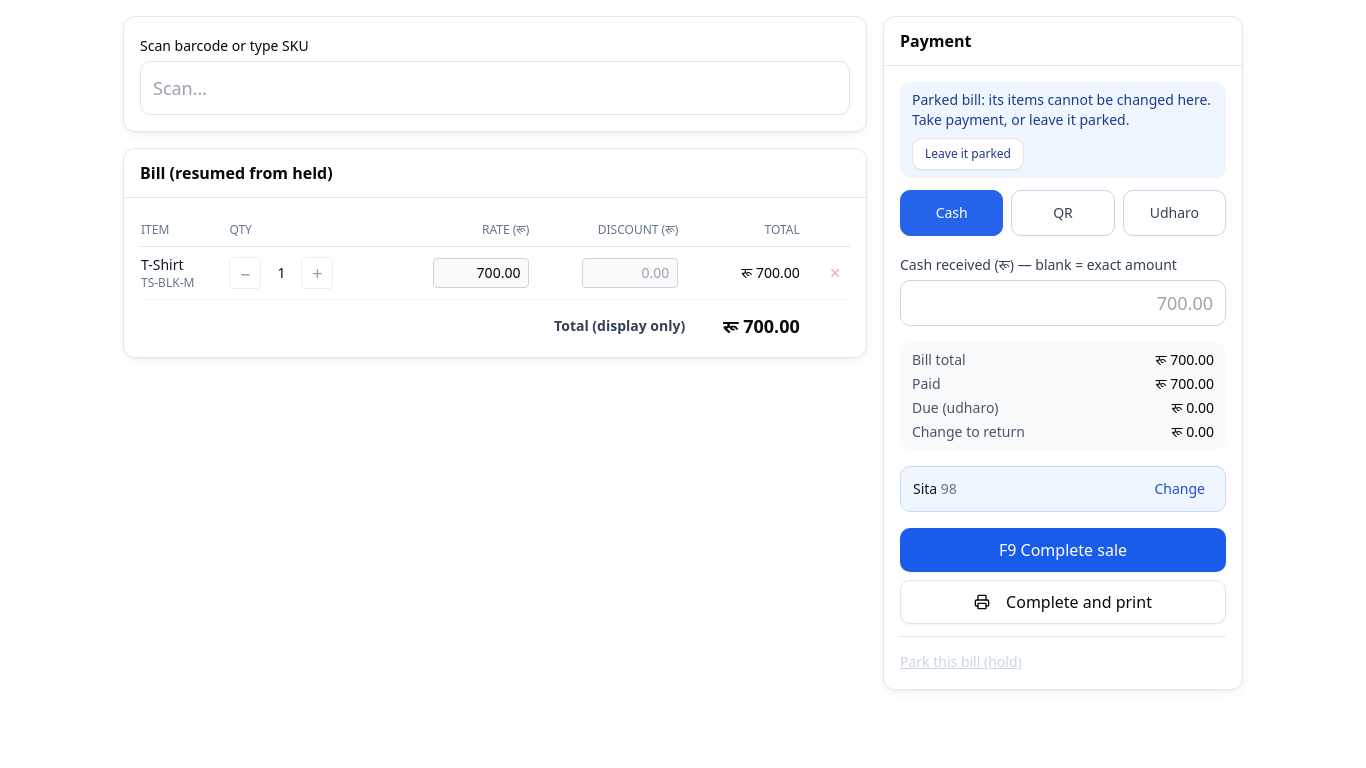
Test: BillingPage counter payment › with a held bill open › sends the customer picked at payment
Type "500" into the field labelled "Cash received (रू) — blank = exact amount". click: (1063, 303)
box: top-left (900, 280), bottom-right (1226, 326)
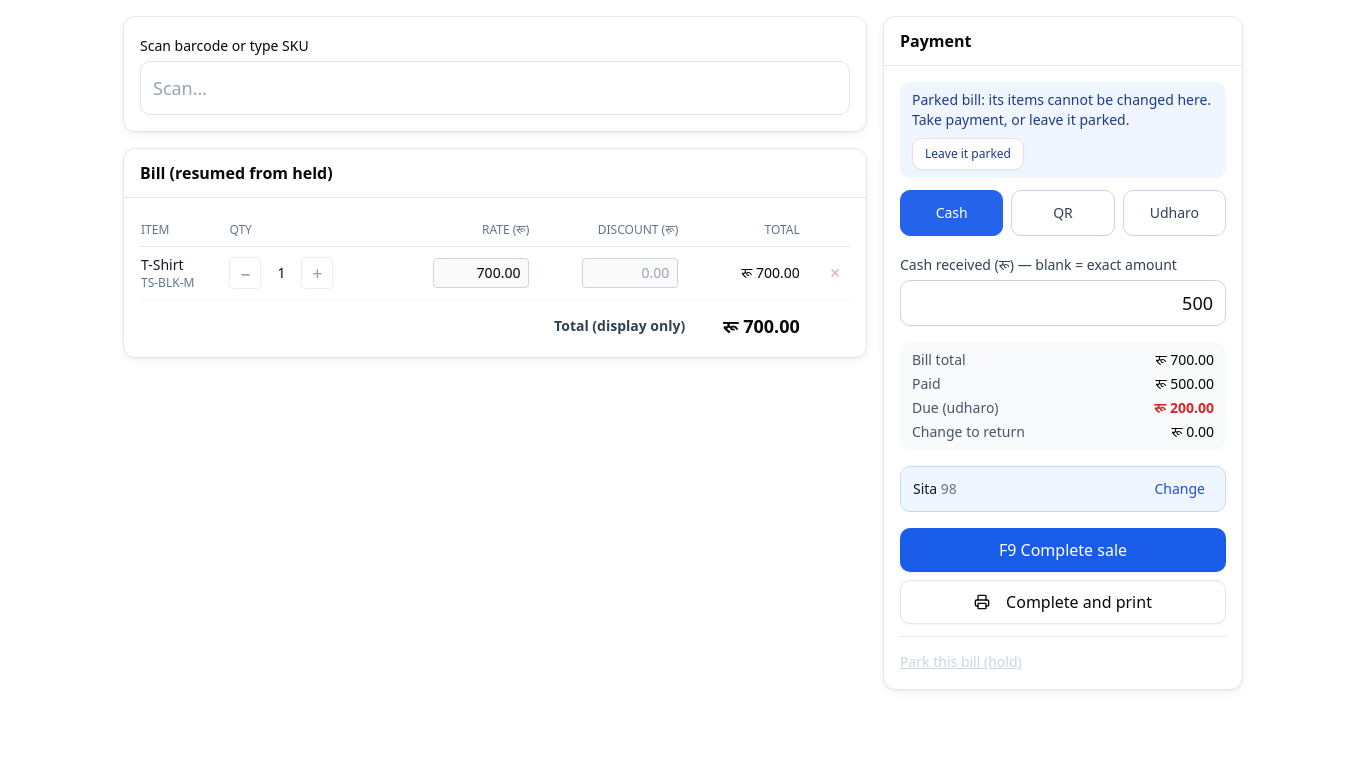
Click the button "F9 Complete sale". click: click(1063, 550)
box: top-left (900, 528), bottom-right (1226, 572)
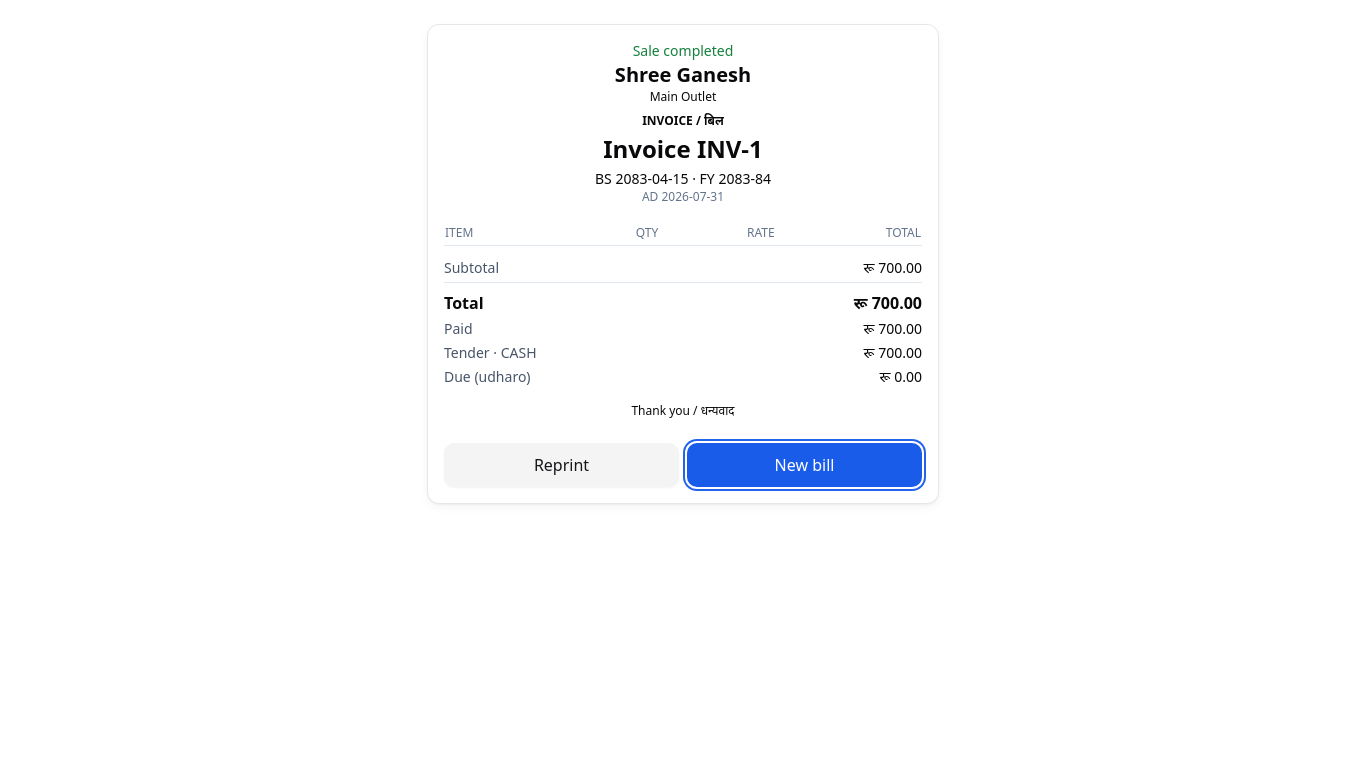
Now the heading "Invoice INV-1" is shown, box top-left (603, 132), bottom-right (763, 165)
